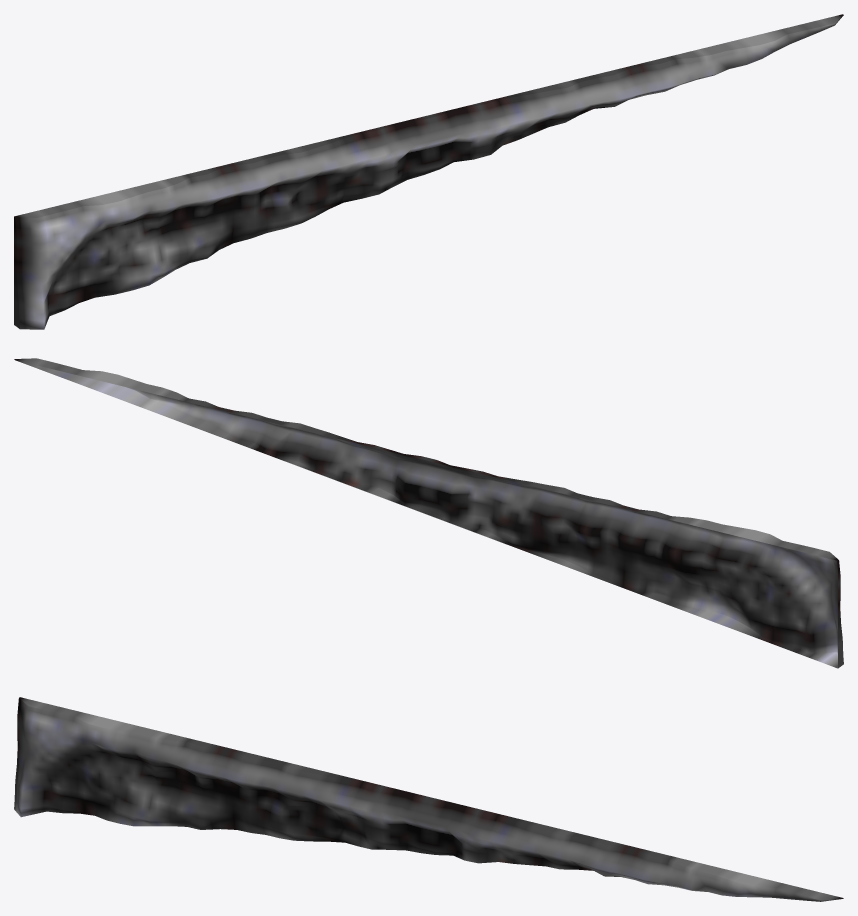
The model's file is bridg1_4_slice32flipx.fbx.
3 renders of one model, top to bottom at view 1: azimuth 30°, elevation 25°; view 2: azimuth 150°, elevation 25°; view 3: azimuth 330°, elevation 25°, orthographic.
Parts seen in each view (by area): view 1: bridg1_4_mesh; view 2: bridg1_4_mesh; view 3: bridg1_4_mesh.
Boxes of the visible parts, <box> form: bridg1_4_mesh: <box>14,14,843,329</box>; bridg1_4_mesh: <box>14,358,843,668</box>; bridg1_4_mesh: <box>14,697,843,901</box>.
Bounding box in the file's own units: 256 × 32 × 7.86.
